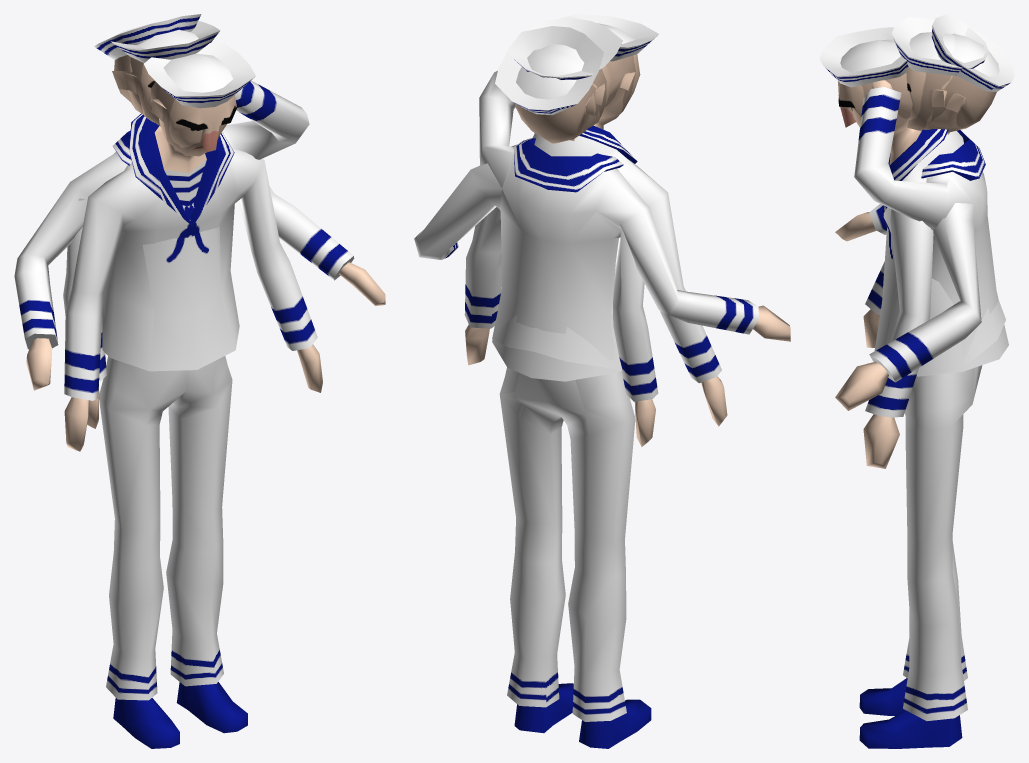
Rendered from Sailor.glb.
The picture shows the model from 3 angles, left to right: view 1: azimuth 30°, elevation 25°; view 2: azimuth 150°, elevation 25°; view 3: azimuth 270°, elevation 25°; orthographic projection.
Parts seen in each view (by area): view 1: SailorFloating, SailorHook, SailorSaved; view 2: SailorFloating, SailorSaved, SailorHook; view 3: SailorFloating, SailorHook, SailorSaved.
Boxes of the visible parts, bbox=[...] form: SailorFloating: bbox=[14, 14, 385, 748]; SailorHook: bbox=[64, 43, 322, 747]; SailorSaved: bbox=[63, 21, 309, 748]; SailorFloating: bbox=[414, 26, 790, 748]; SailorSaved: bbox=[479, 18, 658, 748]; SailorHook: bbox=[464, 14, 727, 729]; SailorFloating: bbox=[835, 14, 1014, 748]; SailorHook: bbox=[819, 27, 1005, 748]; SailorSaved: bbox=[854, 17, 988, 748].
Bounding box in the file's own units: 1.09 × 2.06 × 0.5199.
Materials: 1 (1 with a texture image).
